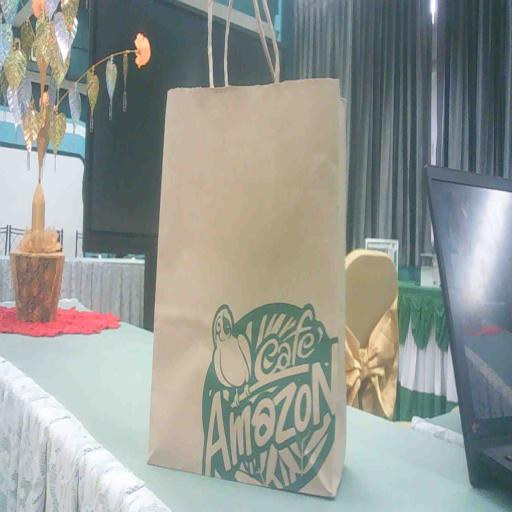bag: (140, 67, 356, 505)
